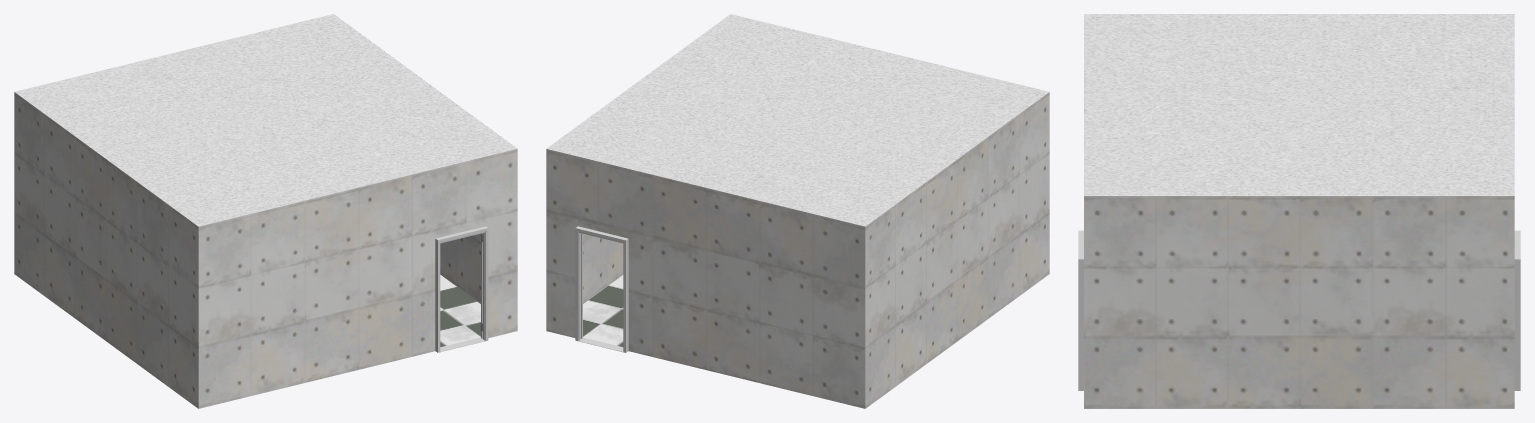
The model's file is Room06.fbx.
3 renders of one model, left to right at view 1: azimuth 30°, elevation 25°; view 2: azimuth 150°, elevation 25°; view 3: azimuth 270°, elevation 25°, orthographic. The views are drawn at different scales.
Parts seen in each view (by area): view 1: pCube33, polySurface33; view 2: pCube33, polySurface36; view 3: pCube33, polySurface36, polySurface33.
Part boxes in pixels (x1,y1,x2,y2): pCube33: (14,14,517,408); polySurface33: (435,226,488,352); pCube33: (546,14,1049,408); polySurface36: (575,226,628,352); pCube33: (1084,14,1514,408); polySurface36: (1514,230,1520,390); polySurface33: (1078,230,1083,390).
Size of the model in its own units: 649 by 354 by 667.
3 materials, 1 textured.
